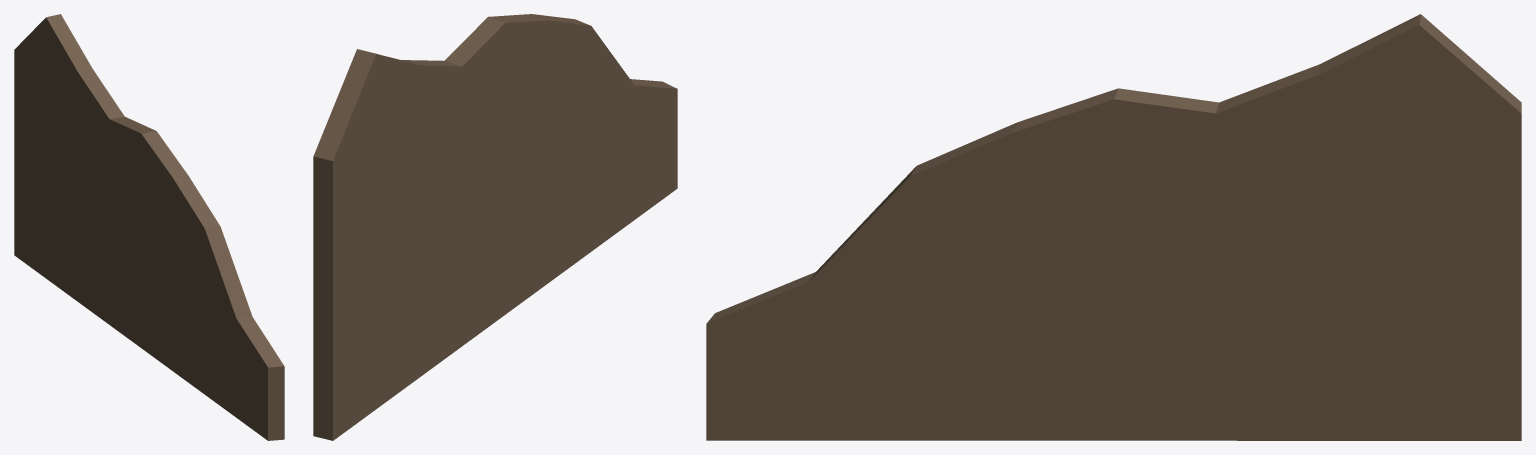
The picture shows the model from 3 angles, left to right: view 1: azimuth 30°, elevation 25°; view 2: azimuth 150°, elevation 25°; view 3: azimuth 270°, elevation 25°; orthographic projection. The views are drawn at different scales.
Parts seen in each view (by area): view 1: Cube.057; view 2: Cube.057; view 3: Cube.057.
Boxes of the visible parts, x1,y1,x2,y2 form: Cube.057: (14, 14, 284, 440); Cube.057: (313, 14, 677, 440); Cube.057: (706, 14, 1521, 440).
Bounding box in the file's own units: 0.0946 × 1.63 × 2.9.
